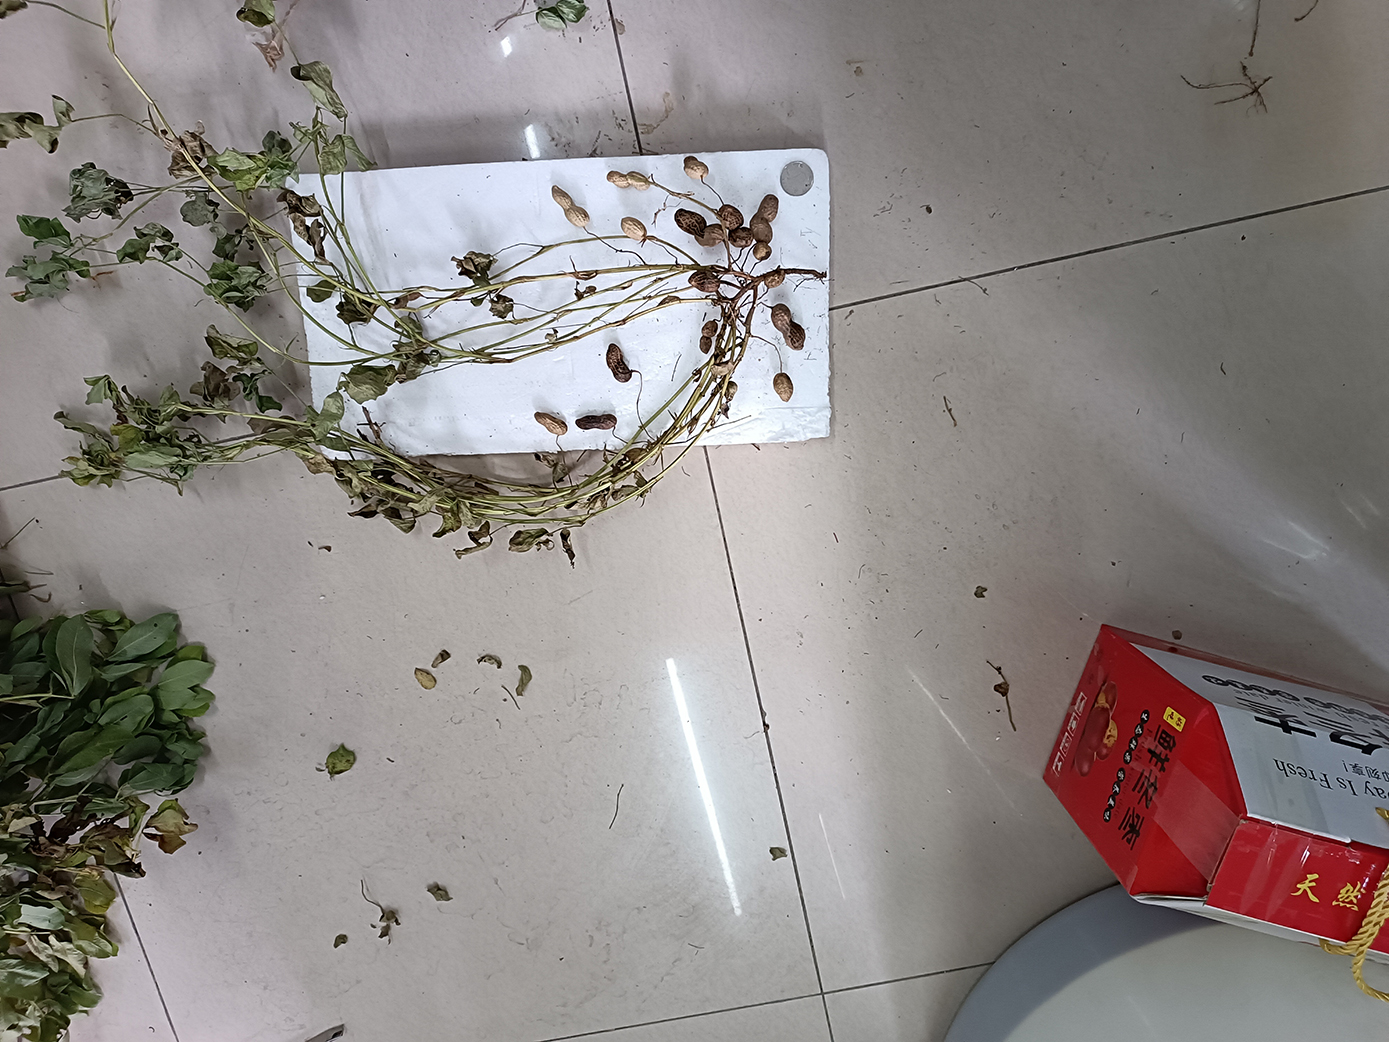h: (551, 184, 590, 227), (749, 194, 779, 243), (606, 170, 650, 192), (534, 412, 568, 436), (695, 223, 725, 248), (620, 216, 648, 241), (683, 155, 709, 180), (773, 372, 794, 402), (729, 227, 754, 248), (753, 242, 772, 260)
l: (771, 303, 806, 351), (606, 343, 633, 382), (674, 208, 707, 238), (575, 413, 618, 430), (688, 269, 721, 292), (718, 204, 744, 230), (699, 320, 718, 355), (764, 269, 786, 288)
